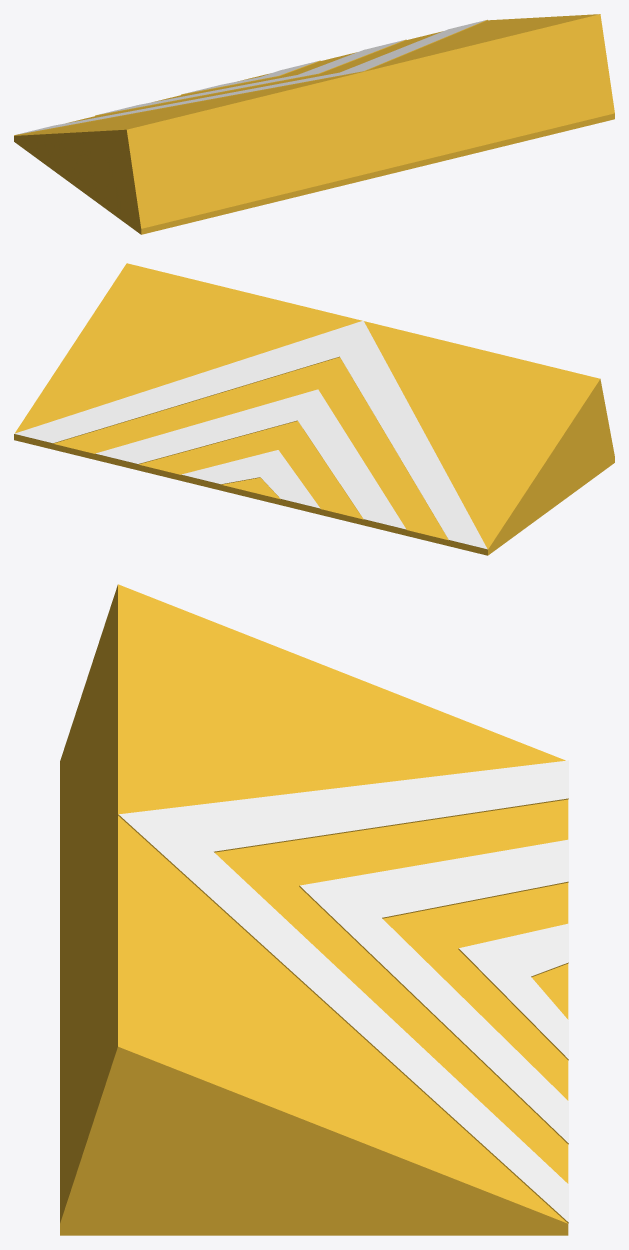
The model's file is ramps.fbx.
The picture shows the model from 3 angles, top to bottom: view 1: azimuth 30°, elevation 25°; view 2: azimuth 150°, elevation 25°; view 3: azimuth 270°, elevation 25°; orthographic projection. The views are drawn at different scales.
Parts seen in each view (by area): view 1: Ramp.001; view 2: Ramp.001; view 3: Ramp.001.
Boxes of the visible parts, <box> form: Ramp.001: <box>14,14,614,234</box>; Ramp.001: <box>14,263,614,555</box>; Ramp.001: <box>60,584,568,1235</box>.
Size of the model in its own units: 26.08 by 5 by 12.13.
Materials: 2 (1 with a texture image).
